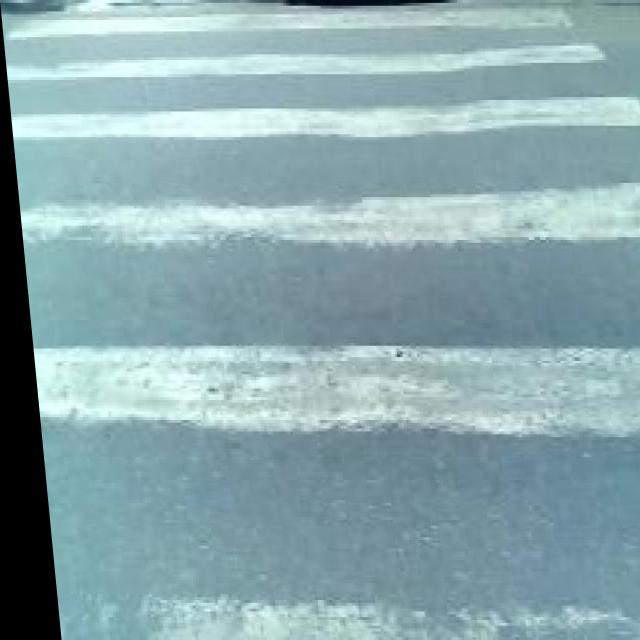zebra: (15, 8, 640, 640)
